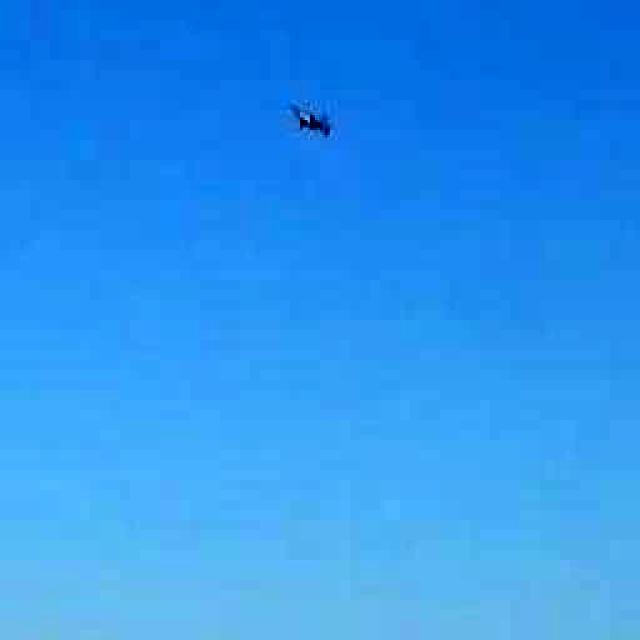bird: (262, 82, 358, 150)
